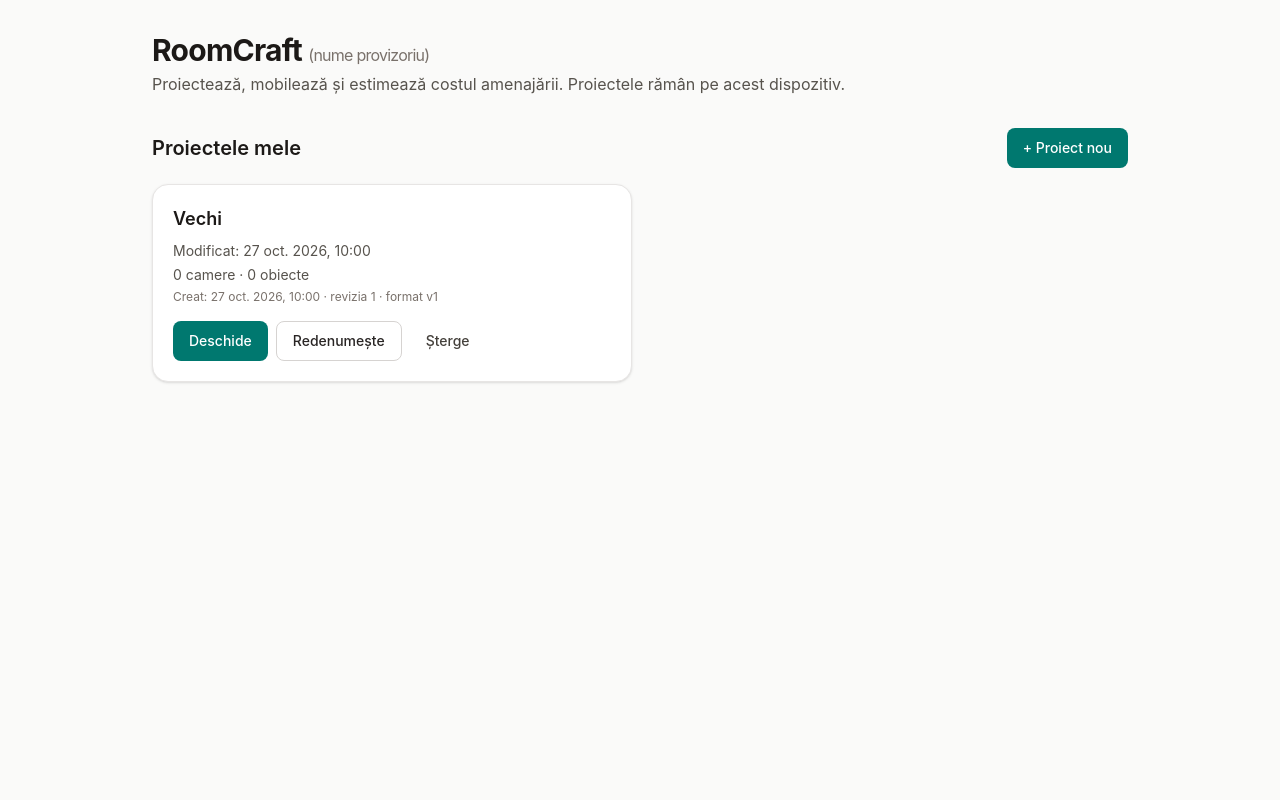
Scenario: Dashboard — redenumire și ștergere › redenumește: lista se actualizează, apare confirmarea
Expected: the number of elements with test id "project-card" is 1, [152, 184, 632, 382]
Click the button "Redenumește" at (339, 341), box [276, 321, 402, 361]
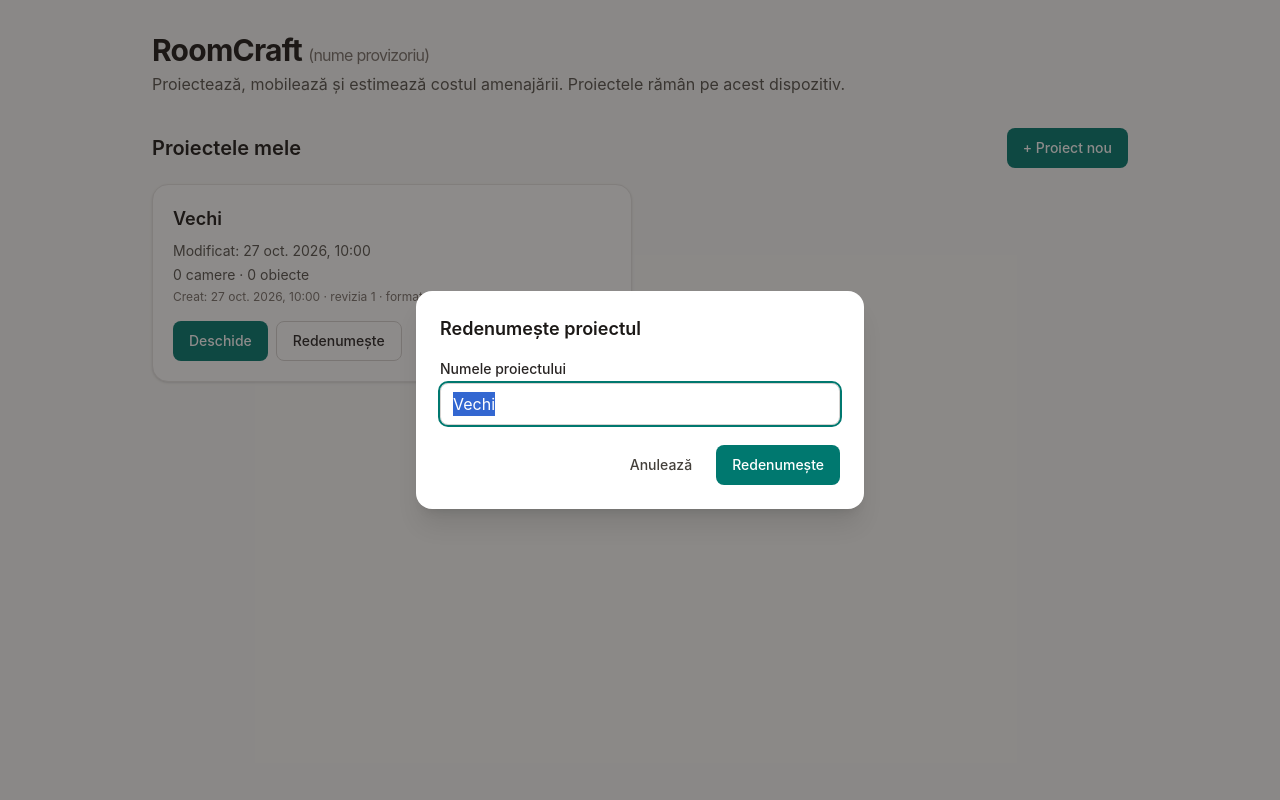
Result: the field labelled "Numele proiectului" holds "Vechi"
Replace the text in the field labelled "Numele proiectului" with "Nou" at (640, 404), box [440, 383, 840, 425]
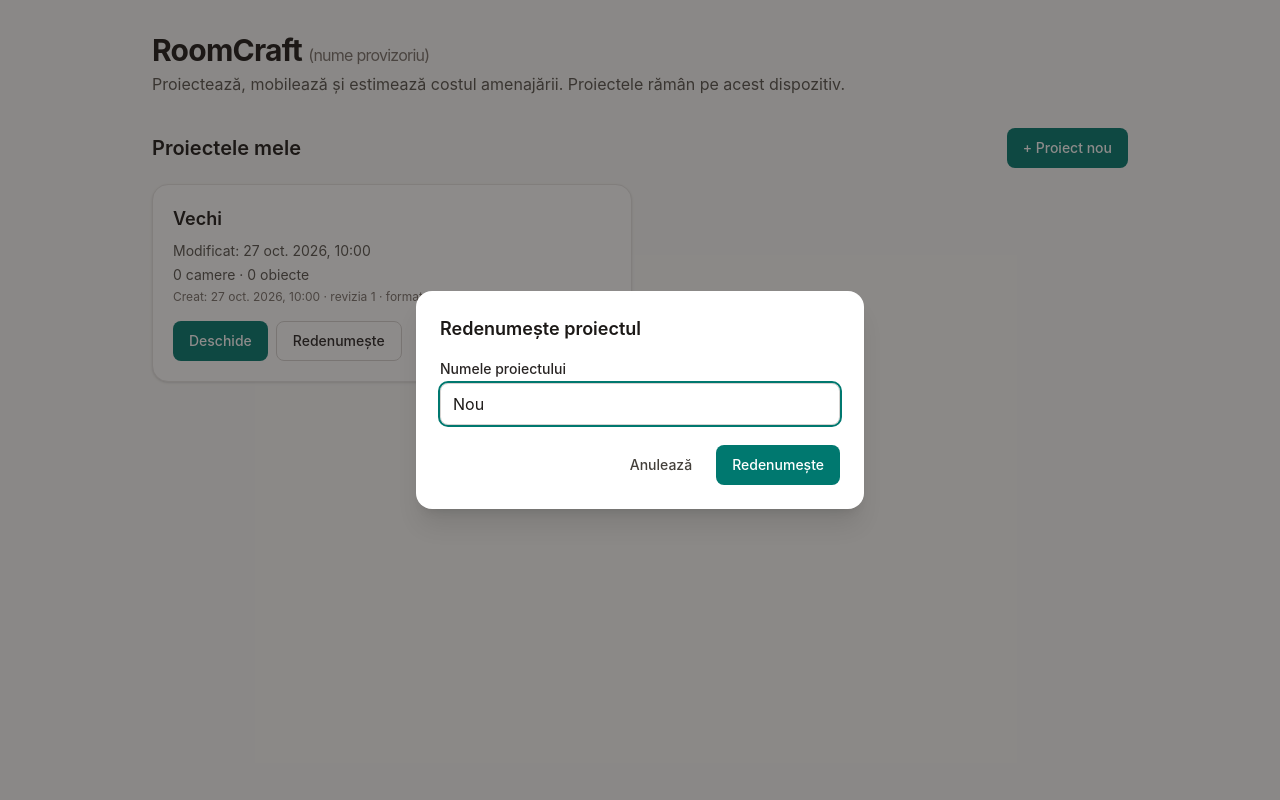
Click the button "Redenumește" at (778, 465), box [716, 445, 840, 485]
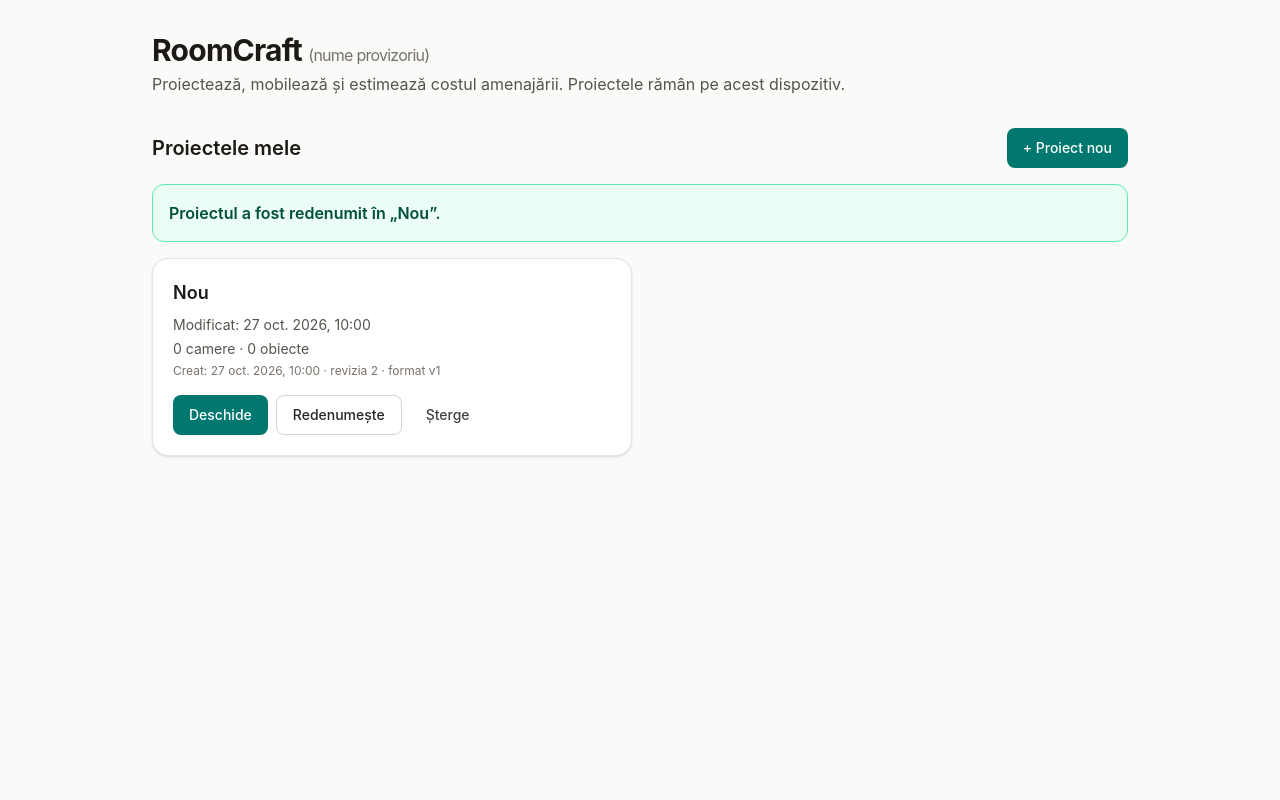
Result: the heading with test id "project-name" reads "Nou" at [173, 282, 209, 303]
Result: the message with test id "notice" shows "redenumit în „Nou”" at [169, 203, 440, 223]
Result: the dialog is gone
